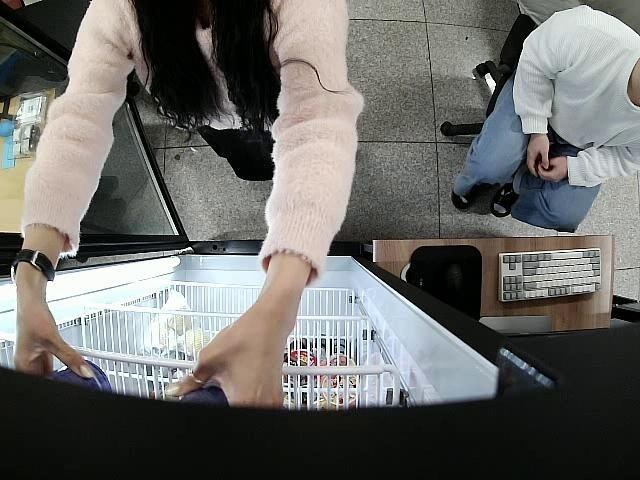14_welchsGrape: (41, 357, 116, 398)
